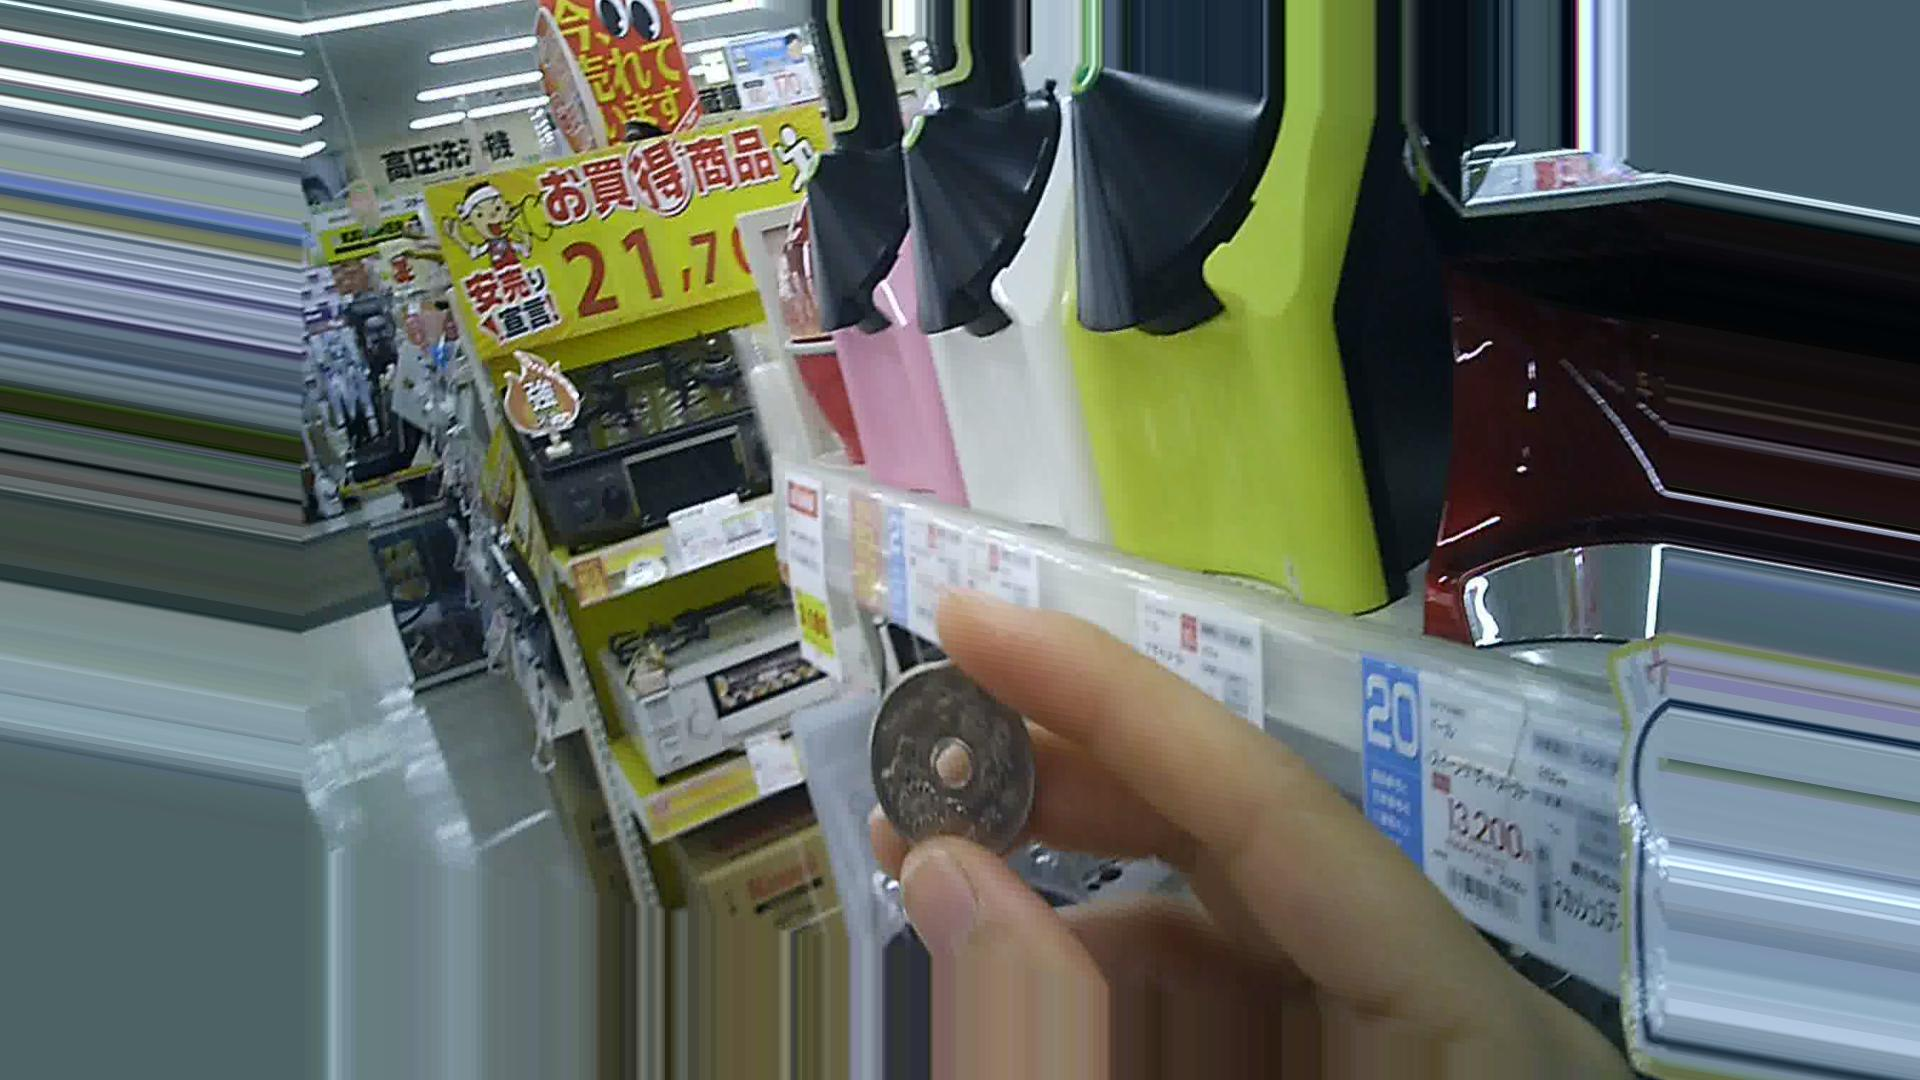50 Yen: (862, 659, 1040, 856)
